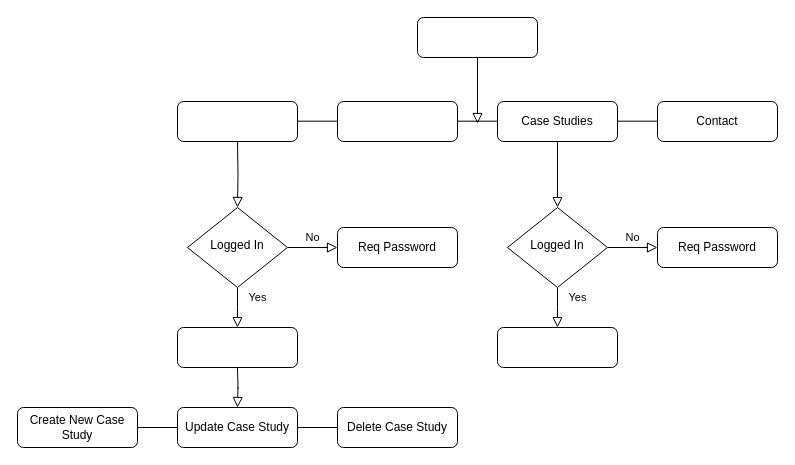
Image size: 795x465. Some labels were removed from this diagram. Each missing label, with the centre of its shape:
"About (Resumé)" belongs at (397,121).
"Admin" belongs at (237,121).
"Dashboard" belongs at (237,347).
"Home" belongs at (477,37).
"View Case Study" belongs at (557,347).
